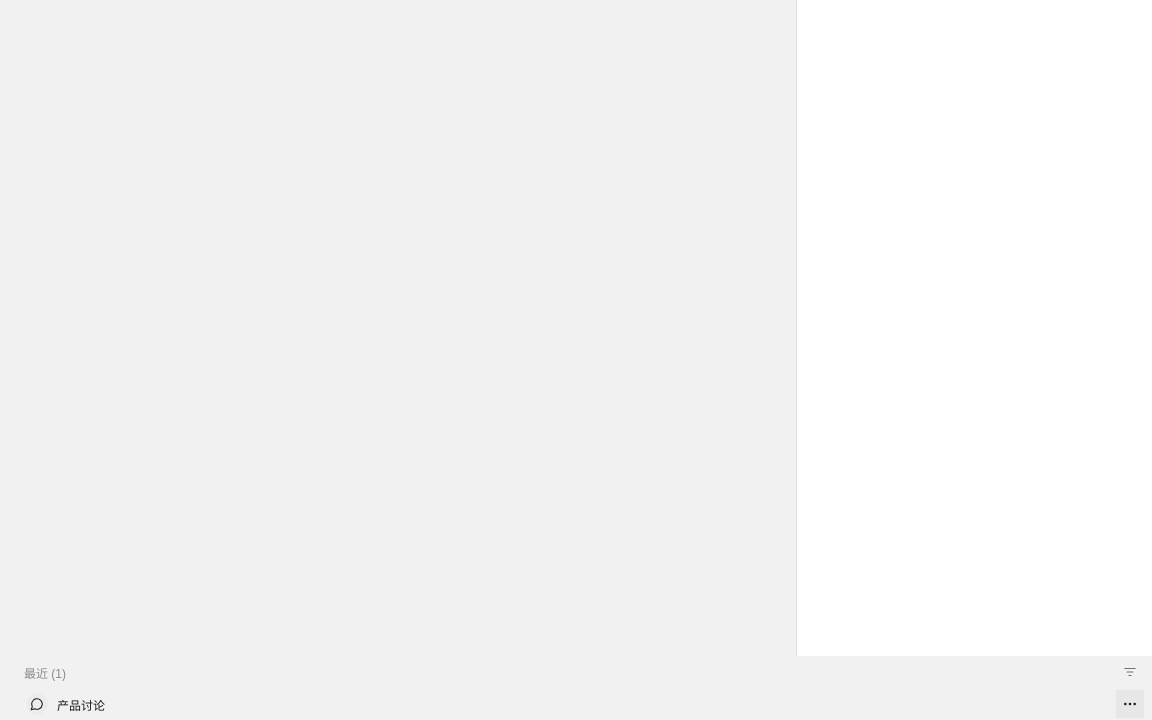
Test case: RecentSessions › opens conversation actions without activating the conversation link
(page scrolled)
Click the button named "产品讨论的更多操作" at x=1130, y=704, box [1116,690,1144,718]
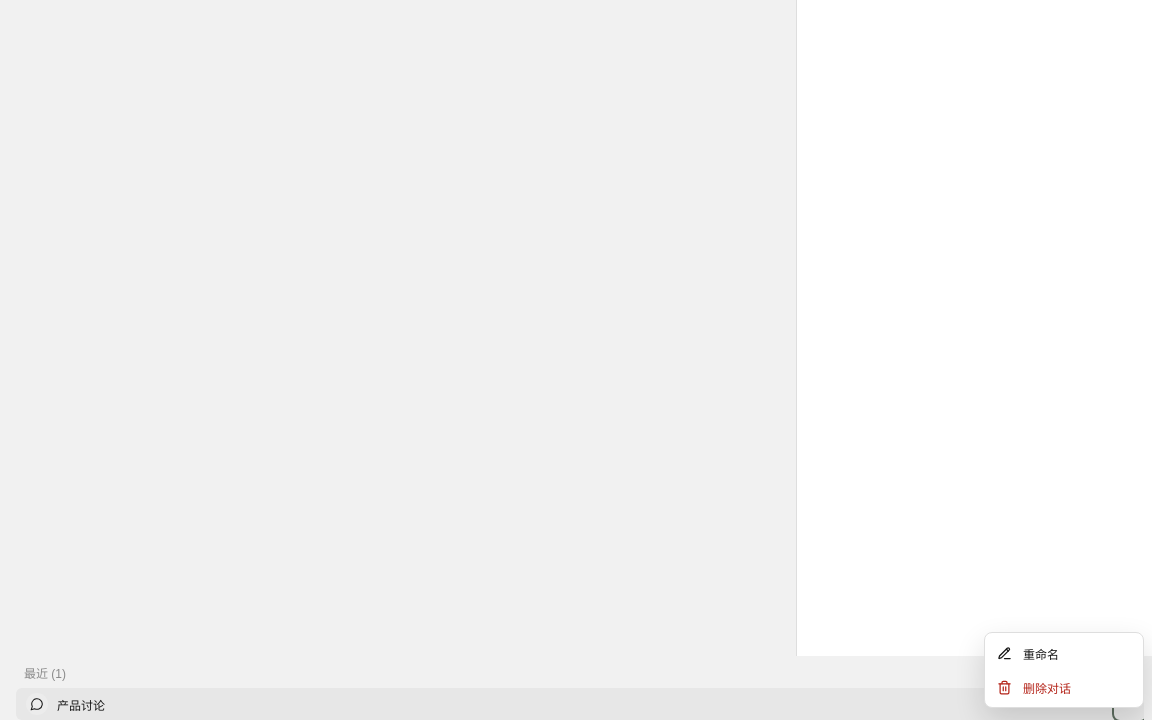
Expected: the menu is shown, [984,632,1144,708]
Expected: the menu item "重命名" is shown, [989,637,1139,669]
Expected: the menu item "删除对话" is shown, [989,671,1139,703]
